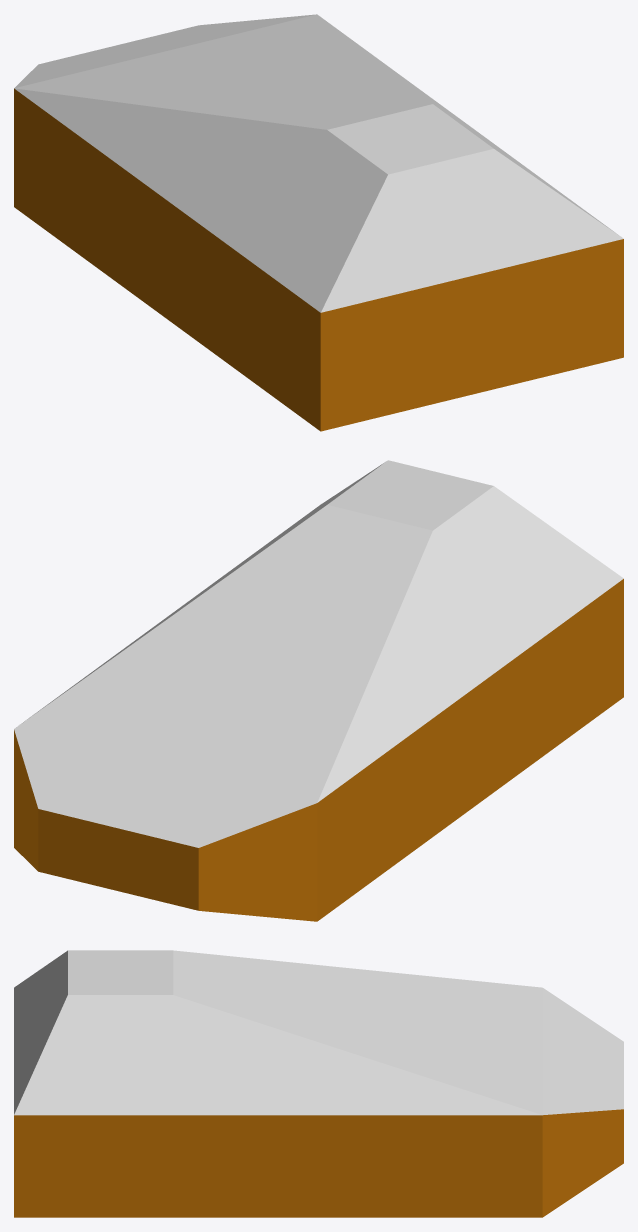
The model's file is FirstTankBody.fbx.
3 views of the same model, one above another, from view 1: azimuth 30°, elevation 25°; view 2: azimuth 150°, elevation 25°; view 3: azimuth 270°, elevation 25° (orthographic). The views are drawn at different scales.
Parts seen in each view (by area): view 1: First Tank Body; view 2: First Tank Body; view 3: First Tank Body.
Boxes of the visible parts, x1,y1,x2,y2 form: First Tank Body: (14,14,623,431); First Tank Body: (14,460,623,921); First Tank Body: (14,950,623,1217).
Size of the model in its own units: 283 by 187 by 572.
